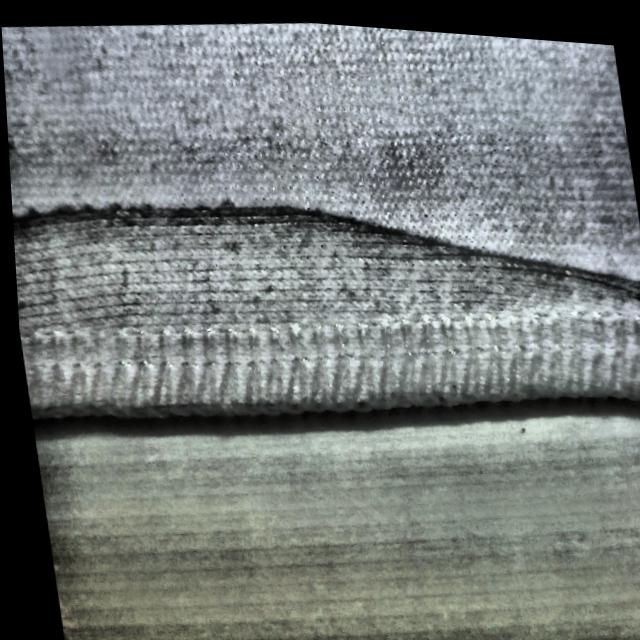seam: (5, 98, 535, 454)
